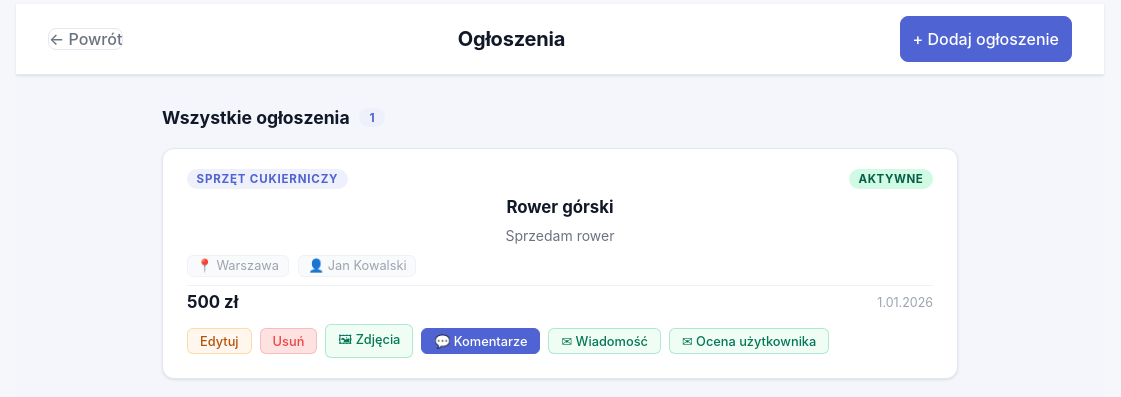
Test: Advertisement › usuwa ogłoszenie po potwierdzeniu
Check: the heading "Rower górski" is shown, box [506,197,614,217]
Click the button "Usuń" at (288, 341), box [260,328,317,354]
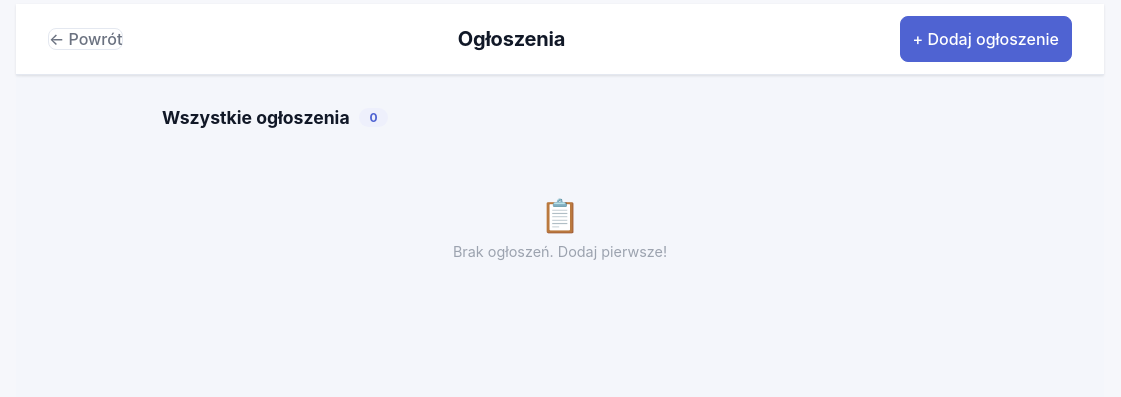
Check: the heading "Rower górski" is gone
